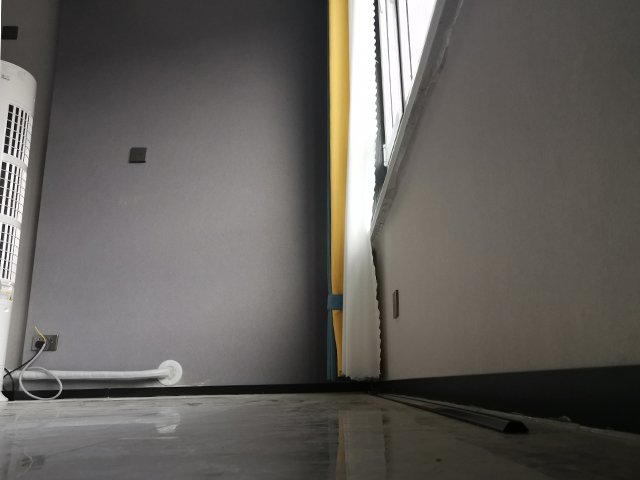curtain: (321, 1, 387, 387)
wire: (1, 325, 65, 403)
